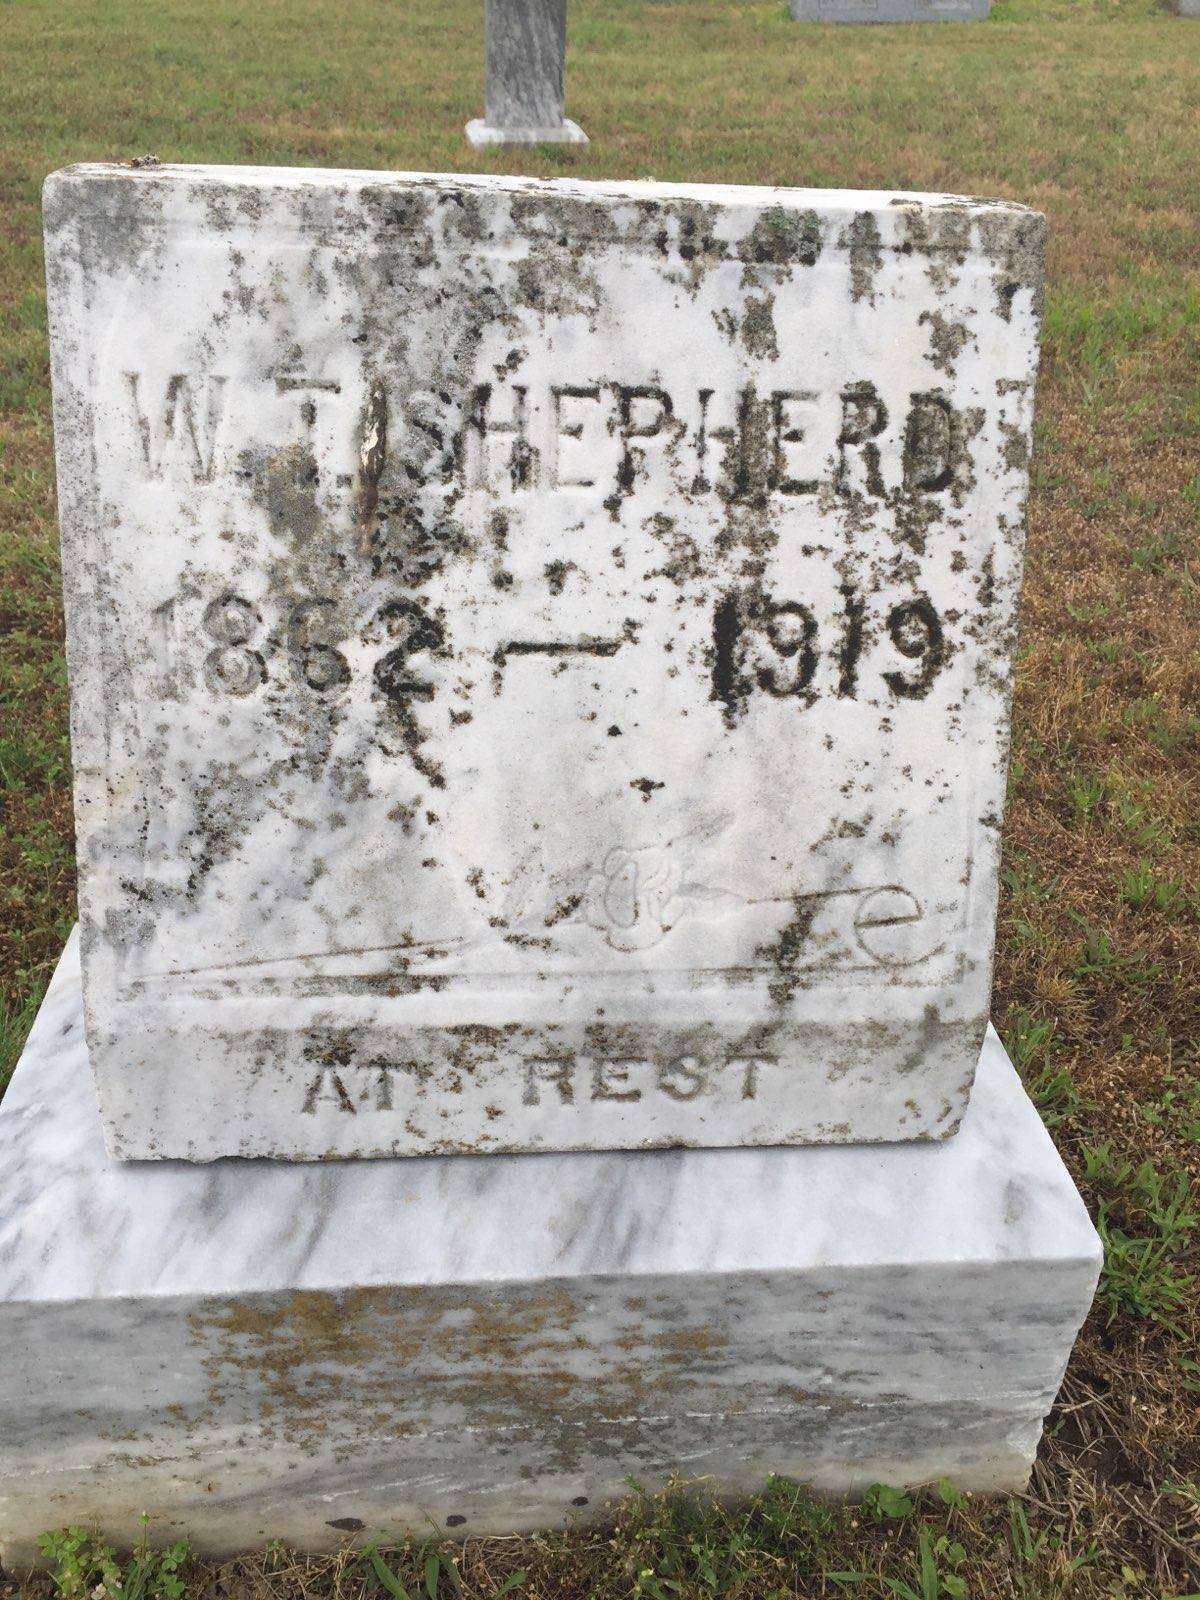upright: (11, 98, 1111, 1538)
